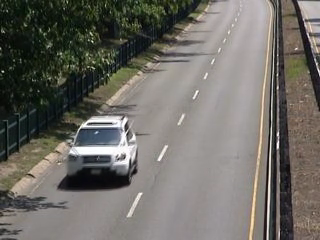car: (64, 111, 147, 188)
